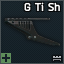Glock Aimtech Tiger Shark sight mount: (0, 0, 64, 64)
